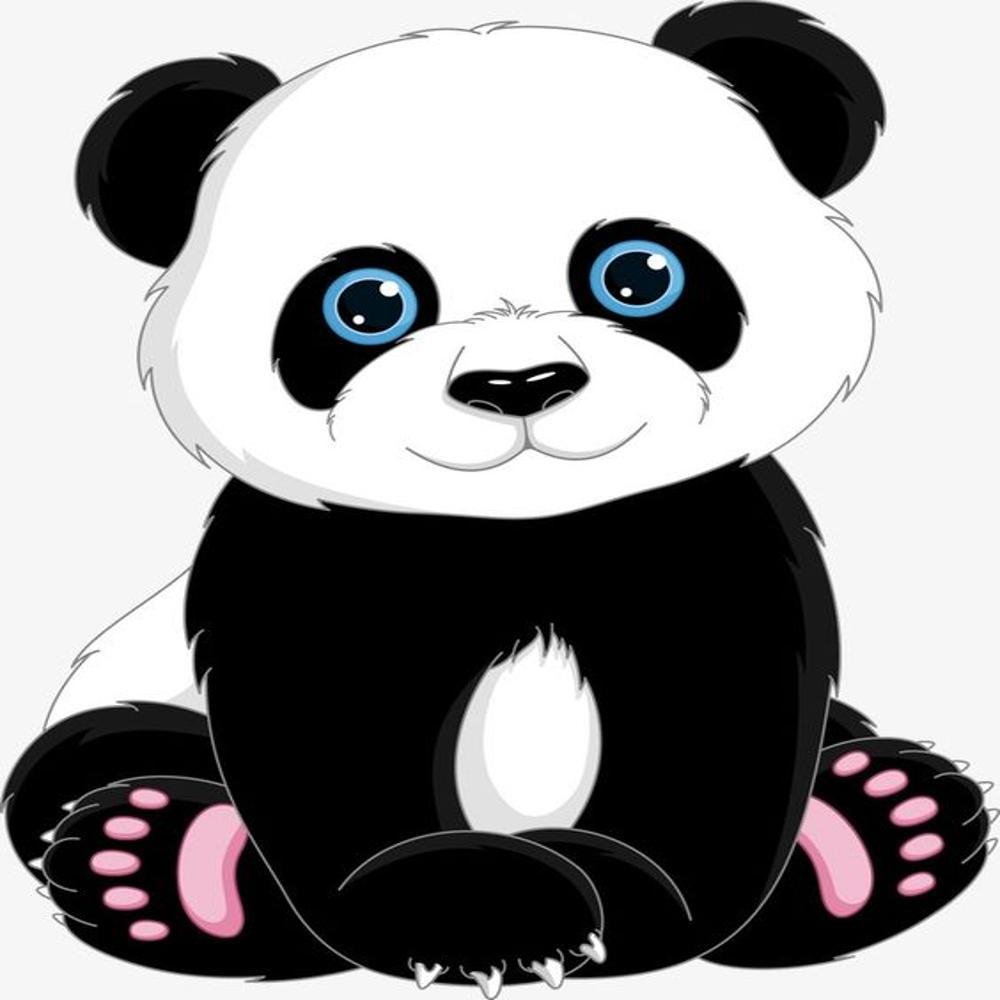panda: (0, 2, 1000, 986)
